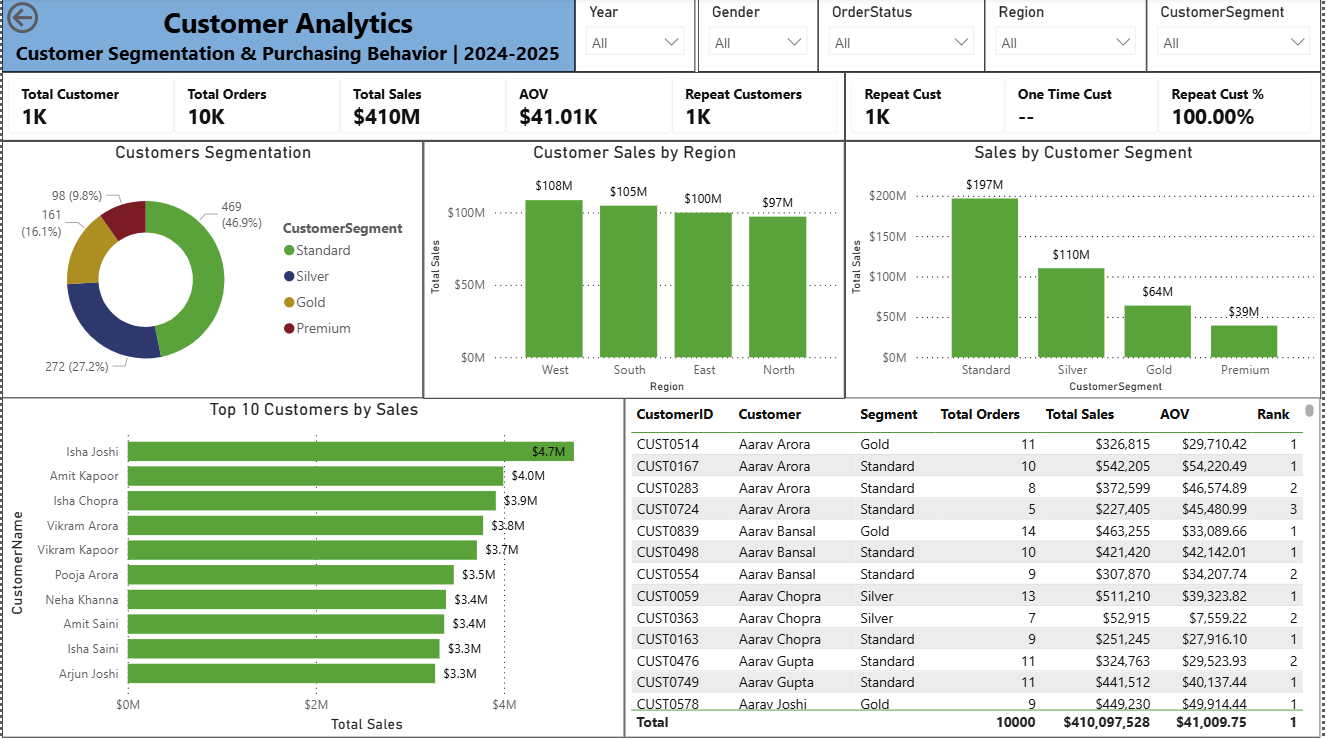

What the dashboard file says about the page in this screenshot:
{"tool":"powerbi","page":{"name":"Customer Analytics","canvas":[1280,720],"ordinal":2},"visuals":[{"type":"textbox","box":[0,0,555.7,72.7],"z":0},{"type":"cardVisual","fields":{"Data":["Customers.Total Customer","Orders.Total Orders","Orders.Total Sales","Orders.Average Order Values","Orders.Repeat Customers"]},"box":[0,72.7,817.7,66.6],"z":1000},{"type":"donutChart","title":"Customers Segmentation","fields":{"Category":["Customers.CustomerSegment"],"Y":["Orders.Total Customers"]},"box":[0,139.3,408.8,249.8],"z":2000},{"type":"clusteredColumnChart","title":"Sales by Customer Segment","fields":{"Category":["Customers.CustomerSegment"],"Y":["Orders.Total Sales"]},"box":[817.7,139.3,461.8,249.8],"z":3000},{"type":"barChart","title":"Top 10 Customers by Sales","fields":{"Category":["Customers.CustomerName"],"Y":["Orders.Total Sales"]},"box":[0,389.2,604.2,330.1],"z":4000},{"type":"tableEx","fields":{"Values":["Customers.CustomerID","Customers.CustomerName","Customers.CustomerSegment","Orders.Total Orders","Orders.Total Sales","Orders.Average Order Values","Orders.Customer Rank"]},"box":[604.2,389.2,675.3,330.1],"z":5000},{"type":"clusteredColumnChart","title":"Customer Sales by Region","fields":{"Category":["Customers.Region"],"Y":["Orders.Total Sales"]},"box":[408.8,139.3,408.8,249.8],"z":6000},{"type":"cardVisual","fields":{"Data":["Orders.Repeat Customers","Orders.One Time Customers","Orders.Repeat Customers %"]},"box":[817.7,72.7,461.8,66.6],"z":7000},{"type":"slicer","fields":{"Values":["DimDate.Year"]},"box":[555.7,0,116.6,72.7],"z":8000},{"type":"slicer","fields":{"Values":["Customers.Region"]},"box":[953.9,0,157.5,72.7],"z":9000},{"type":"slicer","fields":{"Values":["Customers.CustomerSegment"]},"box":[1109.9,0,169.6,72.7],"z":10000},{"type":"slicer","fields":{"Values":["Customers.Gender"]},"box":[675.3,0,116.6,72.7],"z":11000},{"type":"slicer","fields":{"Values":["Orders.OrderStatus"]},"box":[791.9,0,162,72.7],"z":12000},{"type":"actionButton","box":[0,0,100,40],"z":12001}]}

Visuals, with their boxes in screenshot pixels (x1, y1, x2, y2), scaled from the page's 1280x720 canvas onto the 1327x739 screenshot:
textbox: Rect(0, 0, 576, 75)
cardVisual - Customers.Total Customer x Orders.Total Orders: Rect(0, 75, 848, 143)
"Customers Segmentation" donutChart: Rect(0, 143, 424, 399)
"Sales by Customer Segment" clusteredColumnChart: Rect(848, 143, 1326, 399)
"Top 10 Customers by Sales" barChart: Rect(0, 399, 626, 738)
tableEx - Customers.CustomerID x Customers.CustomerName: Rect(626, 399, 1326, 738)
"Customer Sales by Region" clusteredColumnChart: Rect(424, 143, 848, 399)
cardVisual - Orders.Repeat Customers x Orders.One Time Customers: Rect(848, 75, 1326, 143)
slicer - DimDate.Year: Rect(576, 0, 697, 75)
slicer - Customers.Region: Rect(989, 0, 1152, 75)
slicer - Customers.CustomerSegment: Rect(1151, 0, 1326, 75)
slicer - Customers.Gender: Rect(700, 0, 821, 75)
slicer - Orders.OrderStatus: Rect(821, 0, 989, 75)
actionButton: Rect(0, 0, 104, 41)
